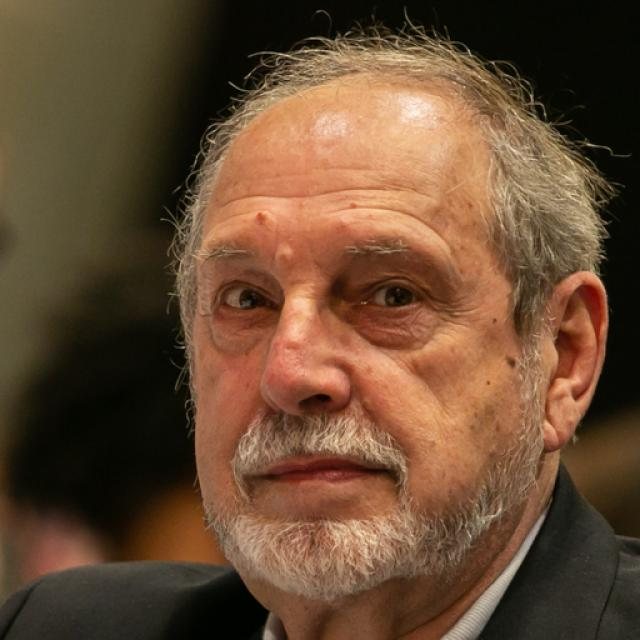Acne: (270, 233, 298, 272), (241, 204, 270, 235)
Wrinkle: (324, 193, 465, 280), (221, 177, 419, 208), (315, 156, 385, 179)
